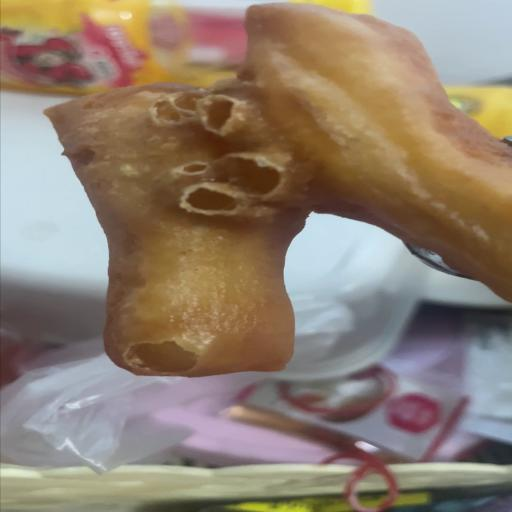street_burnt_defect: (44, 1, 509, 381)
